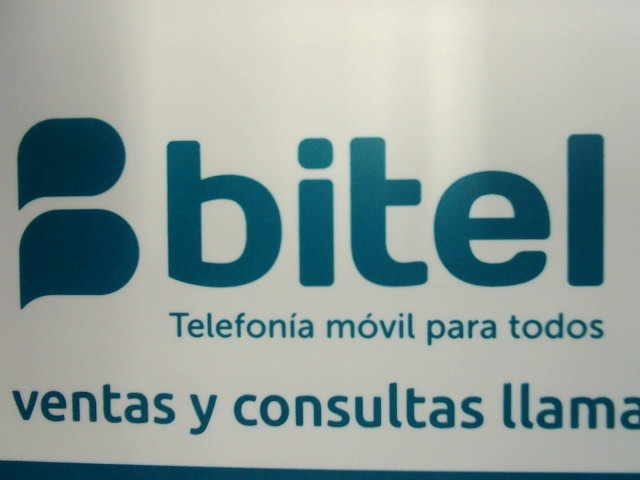BE_bitel: (13, 112, 608, 305)
